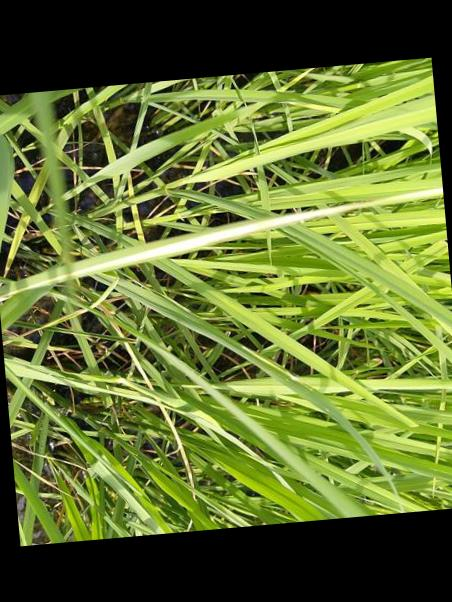Leaf Streak: (69, 206, 330, 274)
